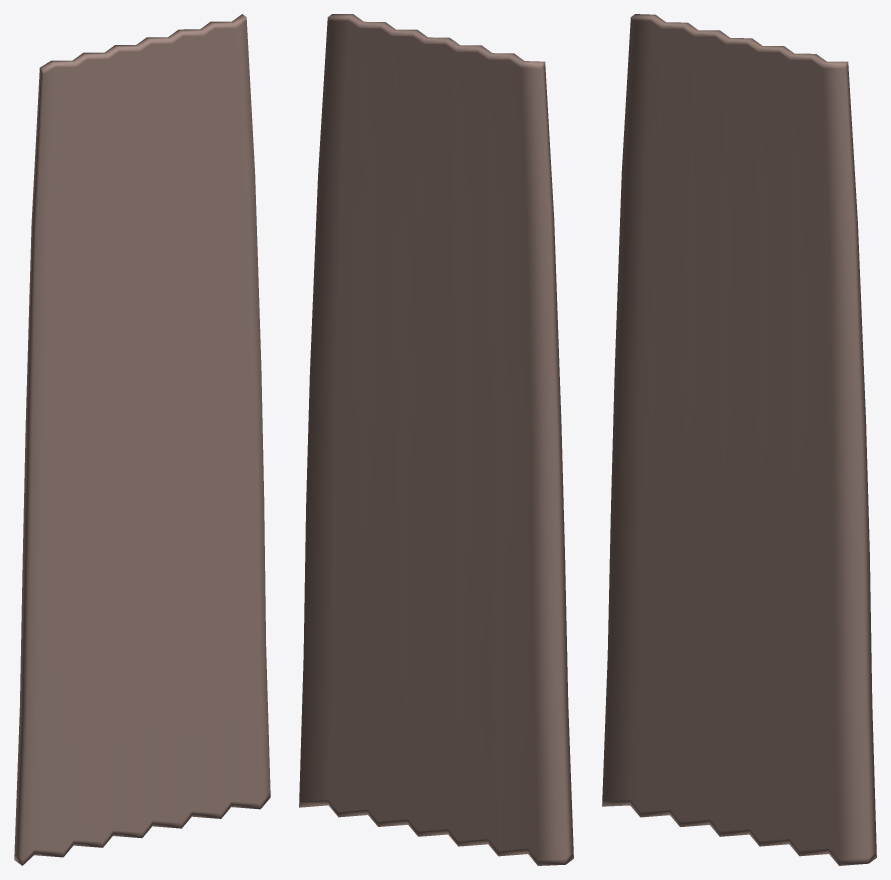
File: curtain_029.fbx
The picture shows the model from 3 angles, left to right: view 1: azimuth 30°, elevation 25°; view 2: azimuth 150°, elevation 25°; view 3: azimuth 330°, elevation 25°; orthographic projection.
Parts seen in each view (by area): view 1: curtain_029; view 2: curtain_029; view 3: curtain_029.
Part boxes in pixels (x1,y1,x2,y2): curtain_029: (14,14,270,865); curtain_029: (299,14,573,865); curtain_029: (602,14,876,865).
Bounding box in the file's own units: 126 × 15.06 × 369.
